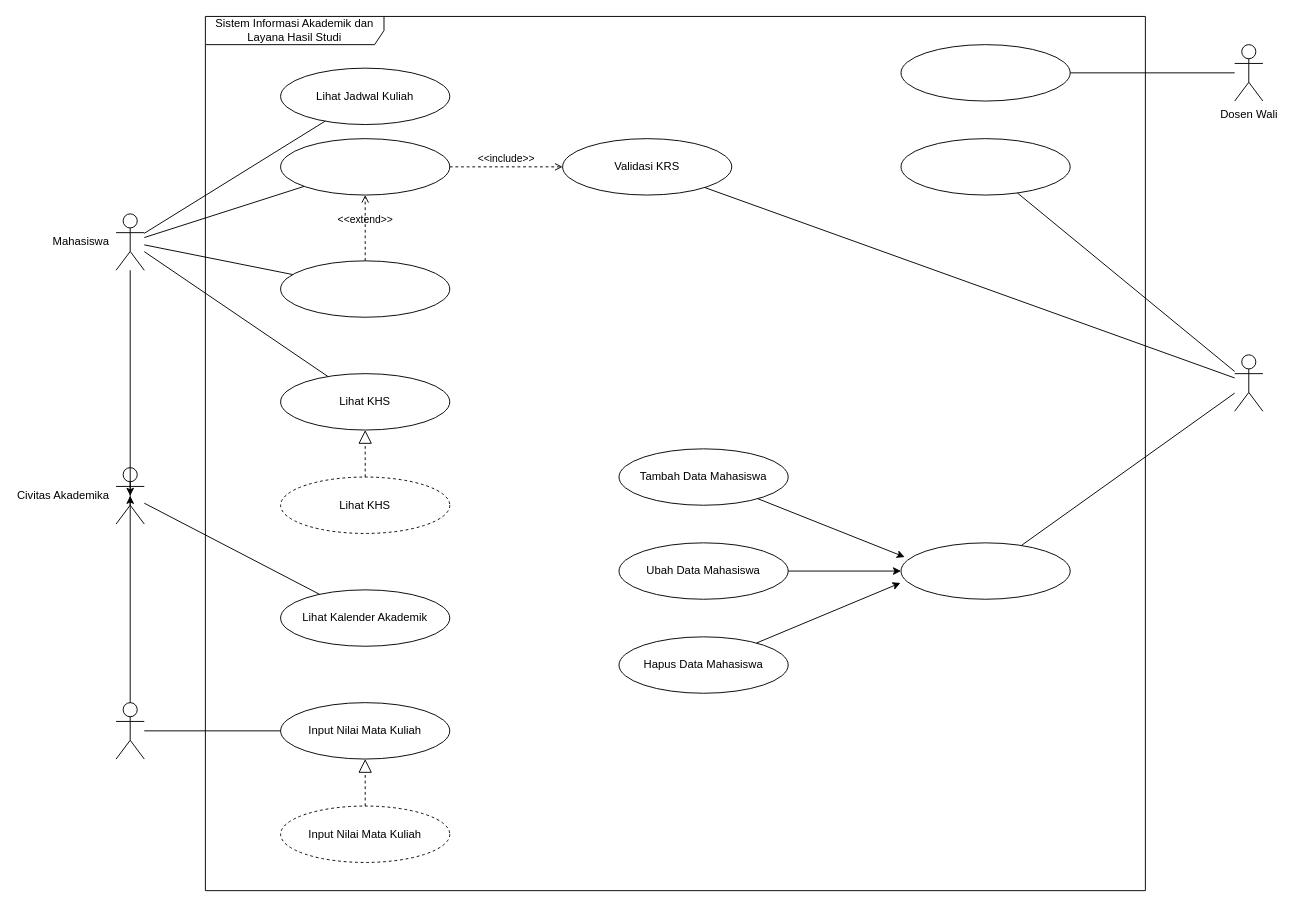
The diagram is 1307 pixels wide and 907 high, and some of its shapes have lost their labels. The centre of each missing label's shape, as x and y in pixels:
Admin Akademik: the point at 1248,382
Ajukan KRS: the point at 365,166
Dosen: the point at 129,730
Kelola Data Mahasiswa: the point at 985,570
Kelola Jadwal Kuliah: the point at 985,166
Proses Keputusan KRS: the point at 985,72
Unduh Bukti Pengajuan KRS: the point at 365,288
